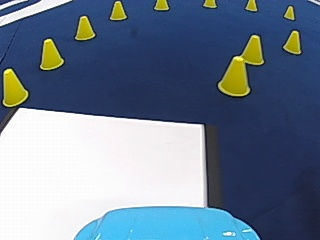cone: (217, 54, 251, 96), (2, 67, 29, 106), (239, 33, 264, 64), (39, 37, 63, 69), (74, 15, 95, 40), (282, 29, 302, 54), (109, 0, 126, 20), (283, 5, 295, 19), (154, 0, 168, 11), (244, 0, 257, 11), (203, 0, 216, 8)
